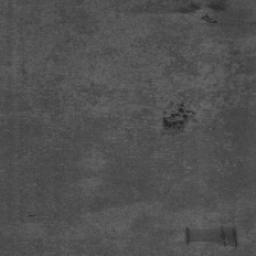Rolled pit: (185, 226, 238, 247), (162, 103, 196, 129), (208, 0, 228, 10), (185, 0, 200, 12), (201, 14, 217, 24)
